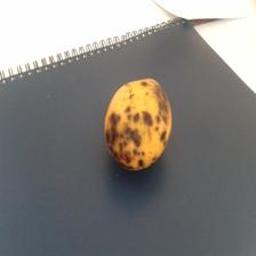Mango Rotten: (98, 61, 181, 180)
